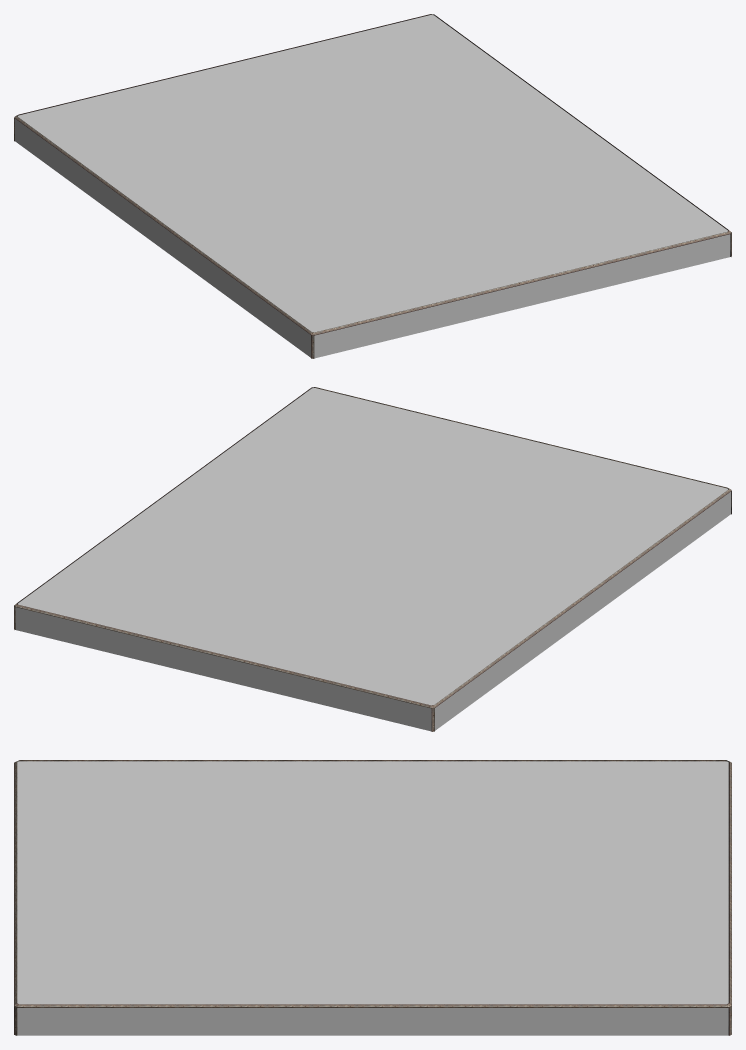
The model's file is ConcecretePlatform.FBX.
3 renders of one model, top to bottom at view 1: azimuth 30°, elevation 25°; view 2: azimuth 150°, elevation 25°; view 3: azimuth 270°, elevation 25°, orthographic. The views are drawn at different scales.
Visible parts, largest first — view 1: ConcecretePlatform; view 2: ConcecretePlatform; view 3: ConcecretePlatform.
Part boxes in pixels (x1=…): ConcecretePlatform: x1=14, y1=14, x2=731, y2=358; ConcecretePlatform: x1=14, y1=387, x2=731, y2=731; ConcecretePlatform: x1=14, y1=760, x2=731, y2=1035.
Size of the model in its own units: 1275 by 73.5 by 1571.
